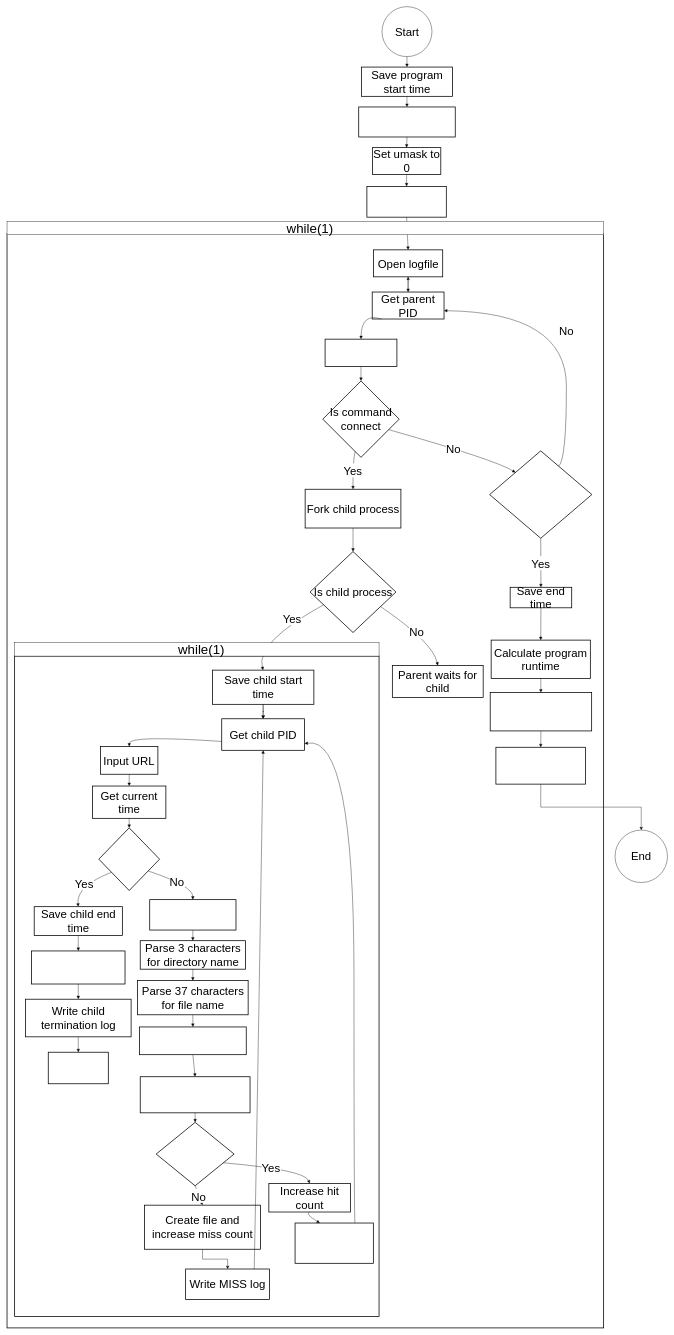
Image size: 674x1335. Some labels were removed from this diagram. Each missing label, with the centre of its shape:
"Calculate child runtime" goes at point (78, 967).
"Check if file exists in subdirectory" goes at point (195, 1094).
"Close logfile and exit" goes at point (540, 765).
"Create cache directory and subdirectory if not exist" goes at point (192, 1040).
"Create log directory" goes at point (406, 201).
"Does file exist" goes at point (195, 1154).
"Exit child" goes at point (78, 1068).
"Get home directory path" goes at point (406, 121).
"Hash URL with SHA1" goes at point (192, 914).
"Input command" goes at point (361, 353).
"Is command quit" goes at point (540, 494).
"Is URL bye" goes at point (129, 859).
"Write HIT log" goes at point (334, 1243).
"Write server termination log" goes at point (541, 711).
